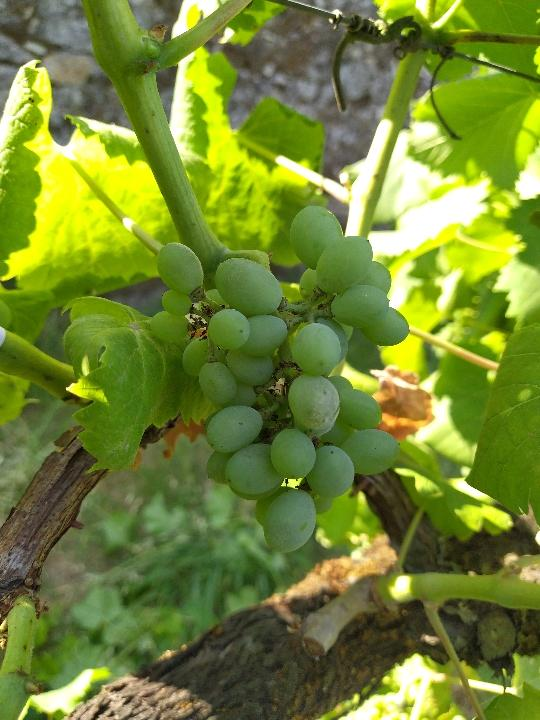grape: (149, 200, 412, 561)
